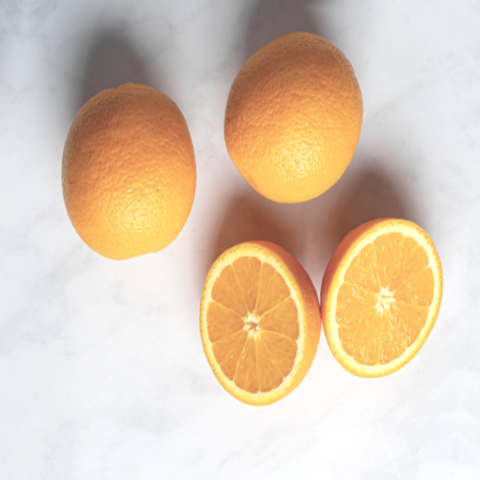orange: (44, 70, 221, 274), (204, 25, 384, 218)
